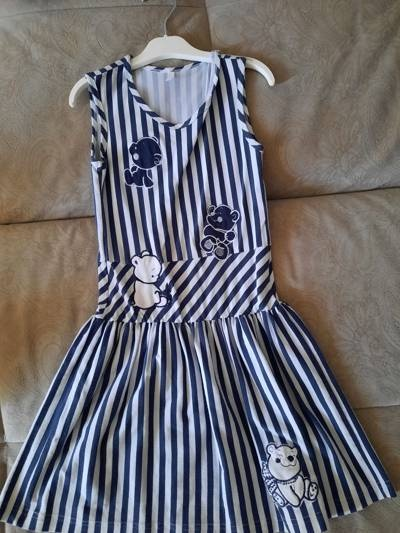Dress: (8, 47, 392, 527)
